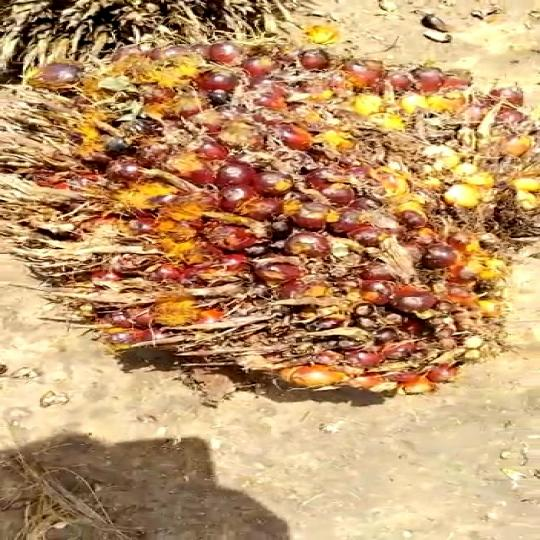masak: (0, 16, 540, 428)
